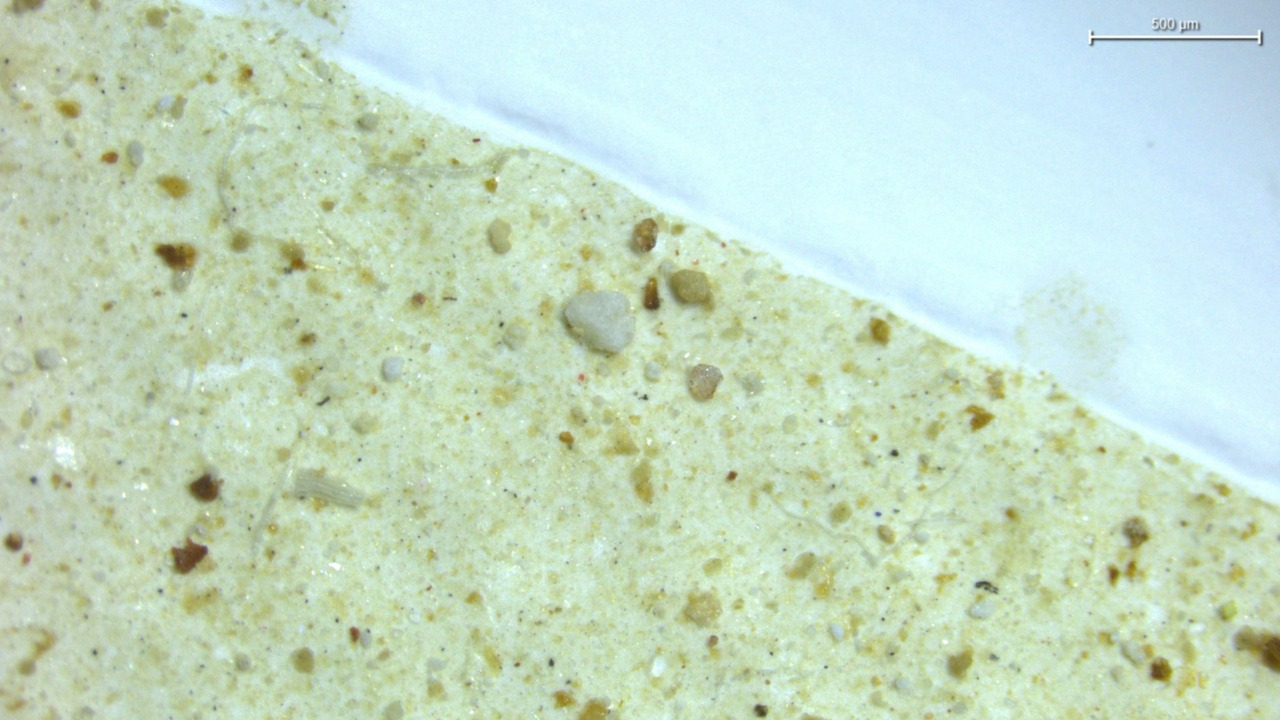microplastic_fragment: (563, 291, 635, 353), (687, 364, 722, 400), (381, 356, 403, 381)
